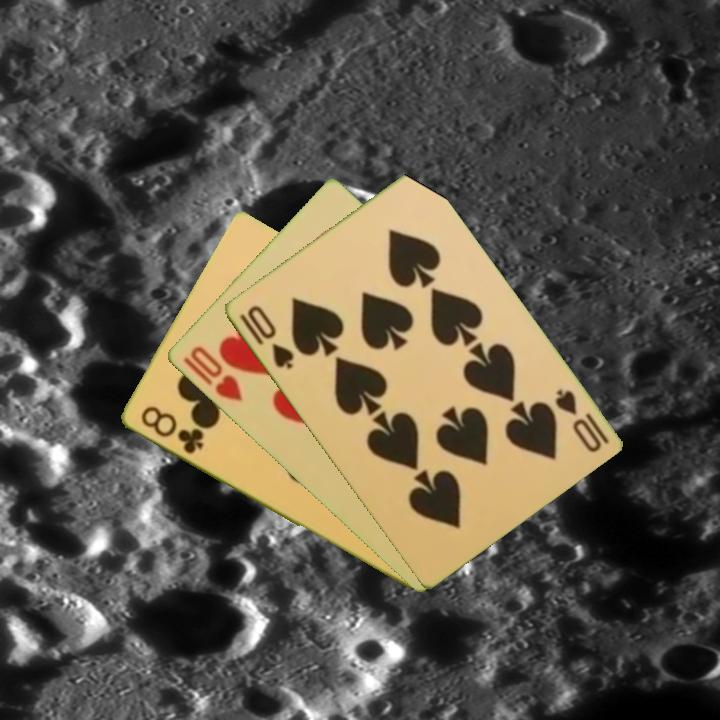10h: (179, 342, 246, 405)
10s: (235, 301, 297, 373), (550, 385, 612, 456)
8c: (136, 402, 206, 457)
